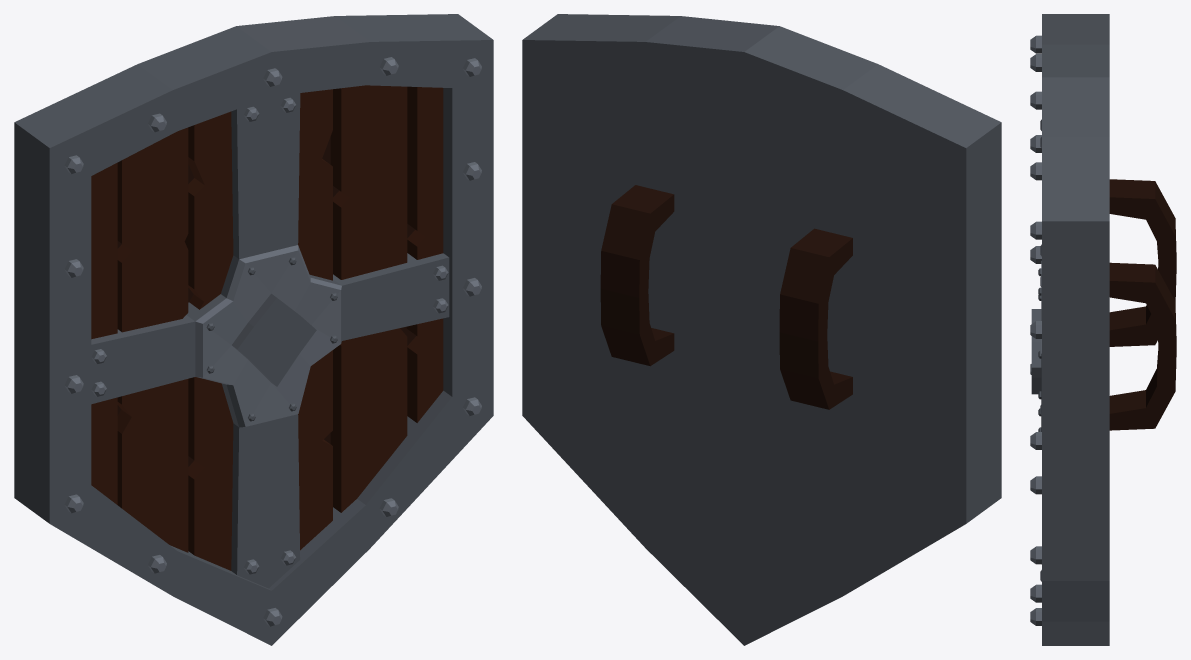
File: Shield_Heater.glb
3 views of the same model, side by side, from view 1: azimuth 30°, elevation 25°; view 2: azimuth 150°, elevation 25°; view 3: azimuth 270°, elevation 25° (orthographic). The views are drawn at different scales.
Visible parts, largest first — view 1: Shield_Heater; view 2: Shield_Heater; view 3: Shield_Heater.
Part boxes in pixels (bbox=[...]): Shield_Heater: bbox=[14, 14, 493, 645]; Shield_Heater: bbox=[522, 14, 1001, 645]; Shield_Heater: bbox=[1030, 14, 1176, 645].
Bounding box in the file's own units: 201 × 256 × 59.7.
